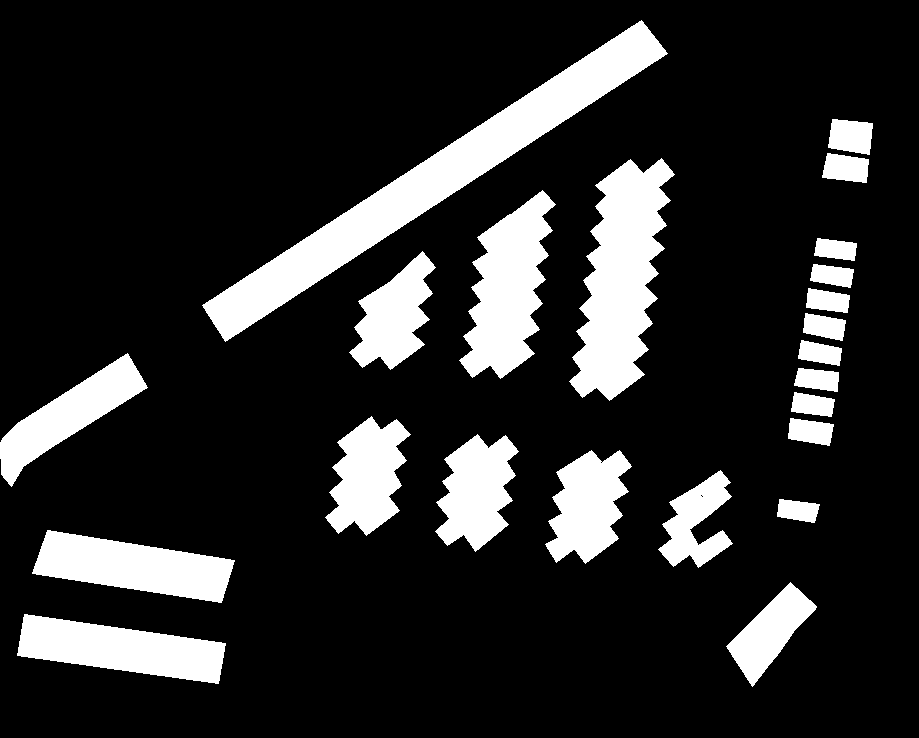parkingspot: (202, 20, 667, 341), (0, 353, 147, 486), (596, 158, 674, 400), (568, 159, 644, 397), (31, 530, 234, 602), (17, 614, 225, 683), (489, 190, 555, 378), (458, 214, 522, 377), (725, 582, 816, 686), (324, 416, 382, 533), (352, 419, 410, 535), (378, 251, 435, 369), (572, 450, 631, 563), (461, 435, 518, 551), (544, 450, 601, 562), (434, 434, 489, 545), (348, 280, 402, 367), (658, 486, 707, 566), (695, 469, 731, 516), (688, 529, 732, 567), (828, 118, 872, 154), (822, 152, 868, 182), (788, 417, 833, 445), (803, 312, 845, 340), (798, 339, 841, 365), (806, 287, 849, 312), (791, 391, 834, 416), (794, 367, 838, 391), (810, 263, 853, 287), (776, 499, 819, 522), (814, 237, 856, 260)
